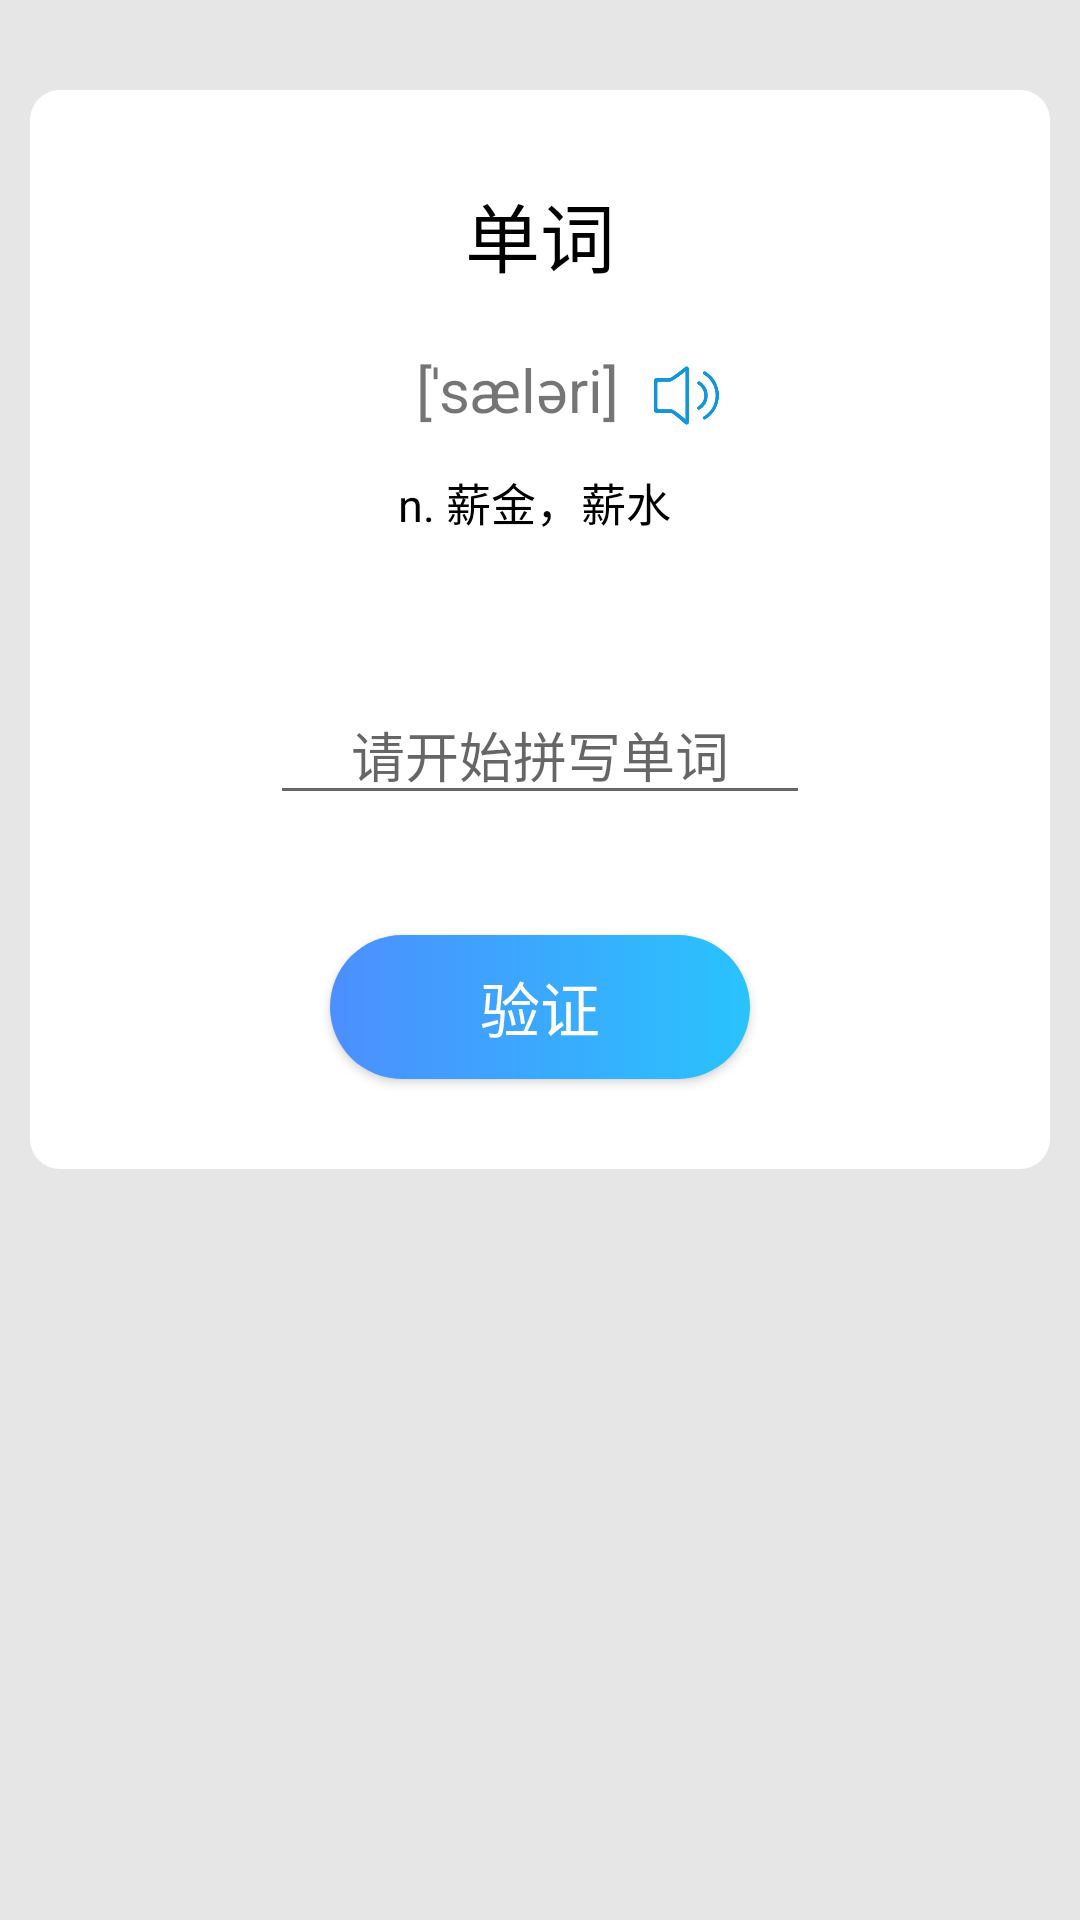

Icons on this 1080px×1920px Android screen, each with the point to tap as (x,y):
bofang: (686,395)
